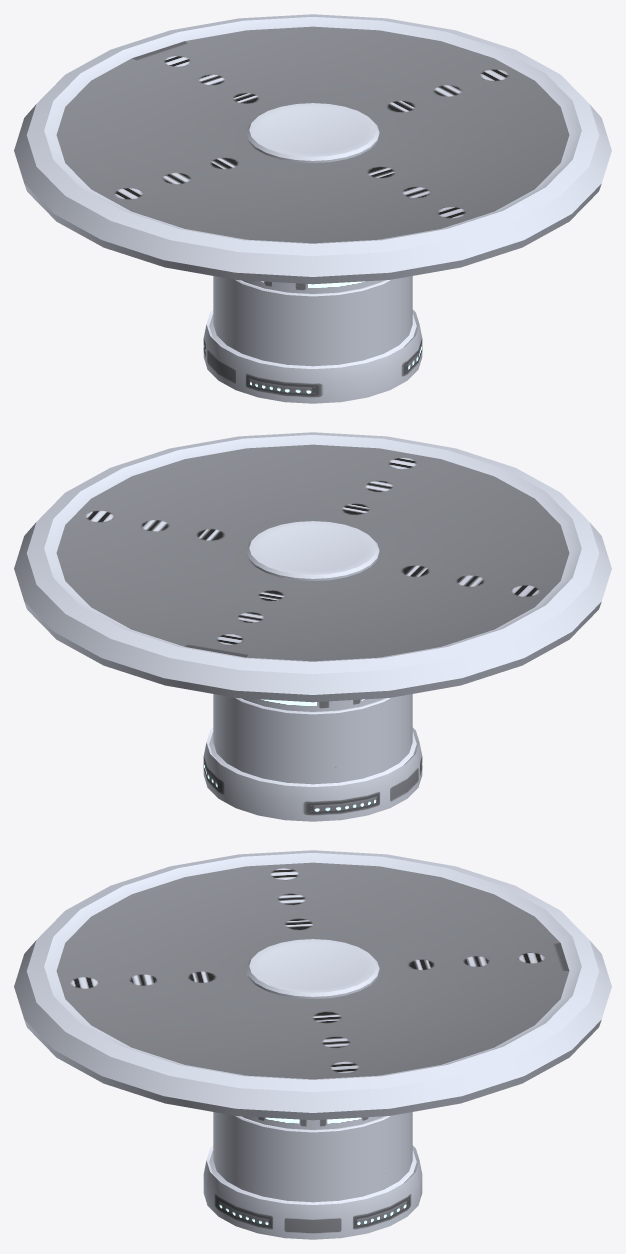
The model's file is table.fbx.
3 views of the same model, one above another, from view 1: azimuth 30°, elevation 25°; view 2: azimuth 150°, elevation 25°; view 3: azimuth 270°, elevation 25° (orthographic).
Parts seen in each view (by area): view 1: table_lp; view 2: table_lp; view 3: table_lp.
Boxes of the visible parts, x1,y1,x2,y2 form: table_lp: (14,14,611,403); table_lp: (14,432,611,821); table_lp: (14,850,611,1239).
Size of the model in its own units: 132 by 55.25 by 132.
